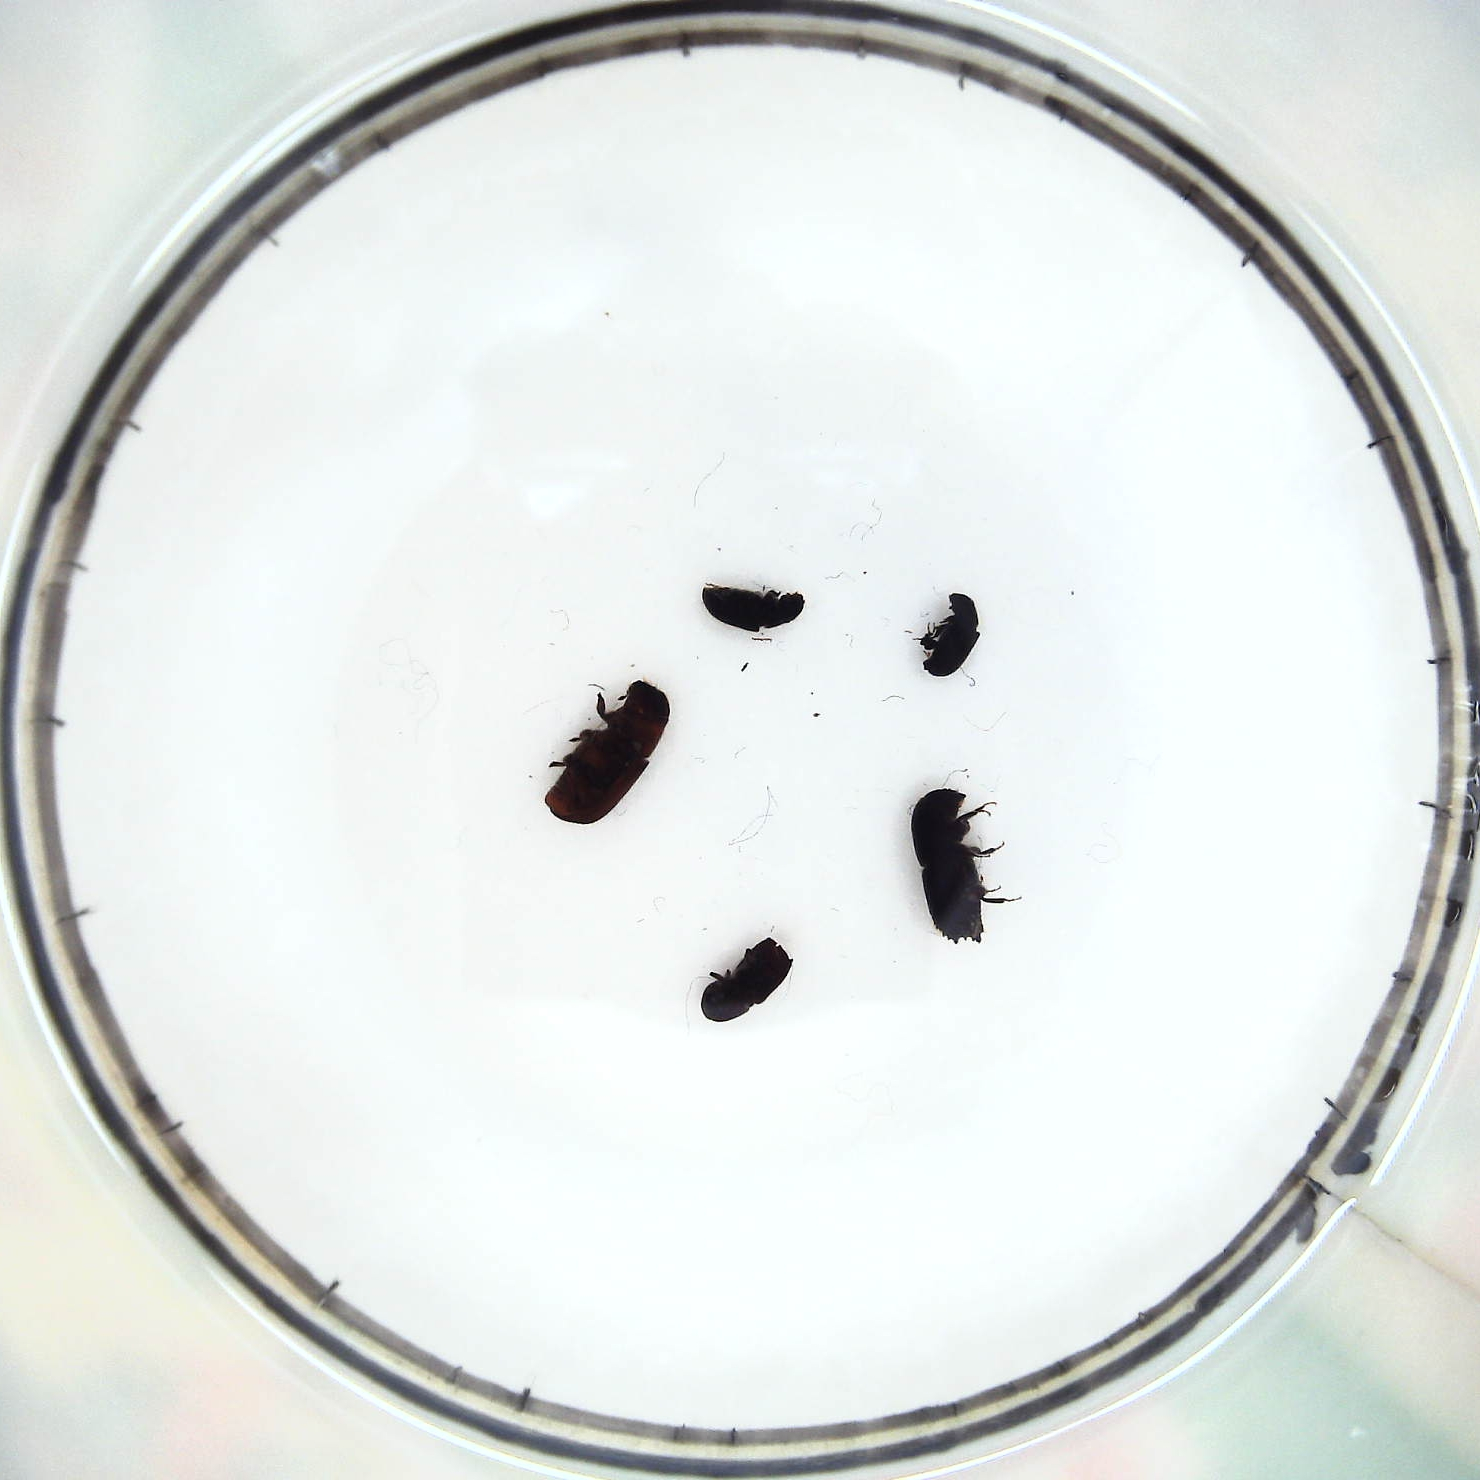Boerner: (903, 785, 996, 947)
Leconte: (548, 680, 675, 825)
Linnaeus: (702, 937, 794, 1022)
armandi: (699, 577, 808, 638)
coleoptera: (918, 594, 981, 675)
